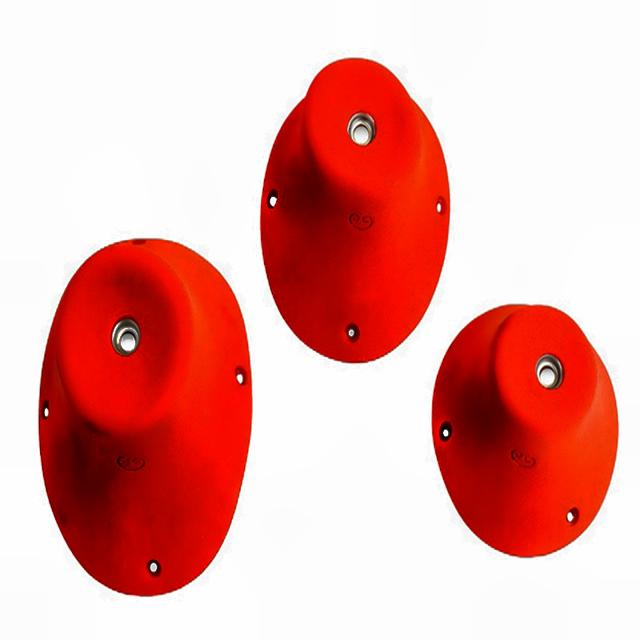Hold: (39, 241, 247, 598), (258, 61, 446, 368), (428, 303, 618, 558)
